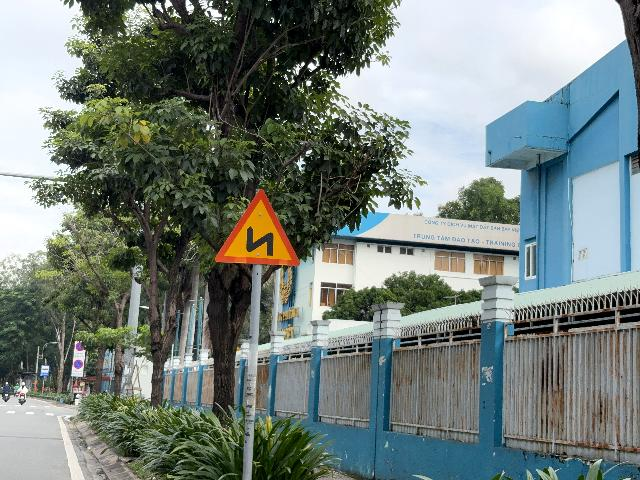nhieu-cho-ngoat-nguy-hiem-lien-tiep: (215, 189, 300, 266)
